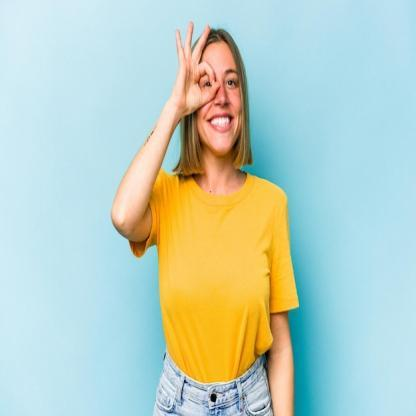ok: (170, 21, 221, 114)
